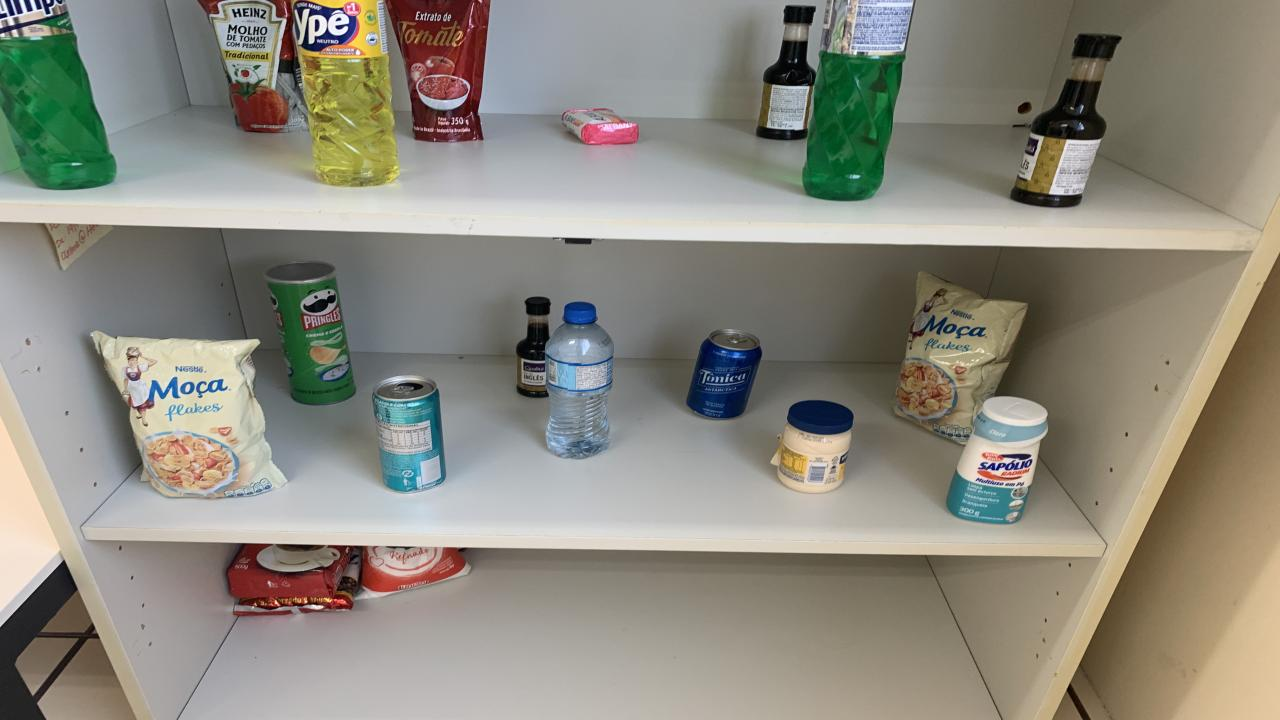Cleaner-Cleanup_Items: (948, 396, 1048, 523)
Detergent-Cleanup_Items: (802, 0, 915, 201), (292, 0, 398, 186)
English_Sauce-Pantry_Items: (1010, 34, 1120, 206), (755, 6, 815, 141), (518, 296, 550, 398)
Flakes-Snacks: (92, 332, 288, 497), (892, 272, 1028, 444)
Mayonnaise-Pantry_Items: (772, 399, 855, 493)
Pringles-Snacks: (265, 262, 355, 405)
Soap-Cleanup_Items: (562, 109, 638, 144)
Tea-Drinks: (372, 377, 445, 493)
Tomato_Sauce-Pantry_Items: (388, 0, 490, 142), (200, 0, 308, 133)
Tonic-Drinks: (688, 330, 762, 418)
Water_Bottle-Drinks: (545, 304, 612, 458)
